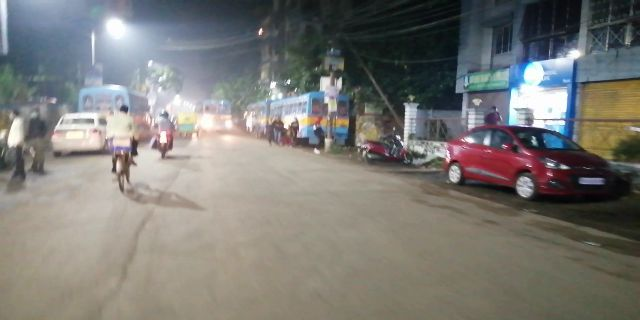Car: (449, 121, 615, 211), (52, 110, 107, 157)
Cycle: (103, 105, 149, 197)
Motorbike: (360, 132, 416, 168), (154, 107, 174, 159)
